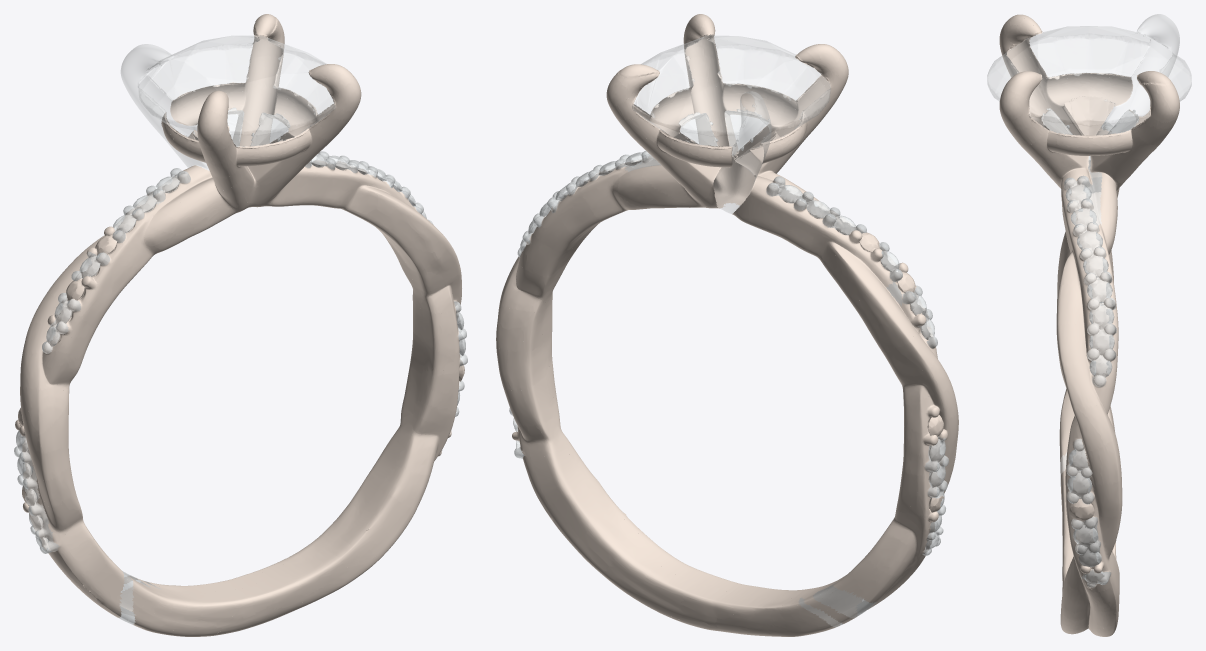
The model's file is ring.glb.
3 views of the same model, side by side, from view 1: azimuth 30°, elevation 25°; view 2: azimuth 150°, elevation 25°; view 3: azimuth 270°, elevation 25° (orthographic).
Parts seen in each view (by area): view 1: Metal, CenterDiamond, PaveDiamonds; view 2: Metal, CenterDiamond, PaveDiamonds; view 3: Metal, CenterDiamond, PaveDiamonds.
Boxes of the visible parts, x1,y1,x2,y2 form: Metal: (15, 14, 464, 636); CenterDiamond: (121, 35, 335, 170); PaveDiamonds: (14, 107, 467, 624); Metal: (496, 14, 958, 636); CenterDiamond: (632, 35, 830, 213); PaveDiamonds: (509, 109, 948, 627); Metal: (999, 14, 1179, 636); CenterDiamond: (987, 14, 1191, 135); PaveDiamonds: (1041, 108, 1139, 587).
Bounding box in the file's own units: 0.796 × 0.9796 × 0.3206.
